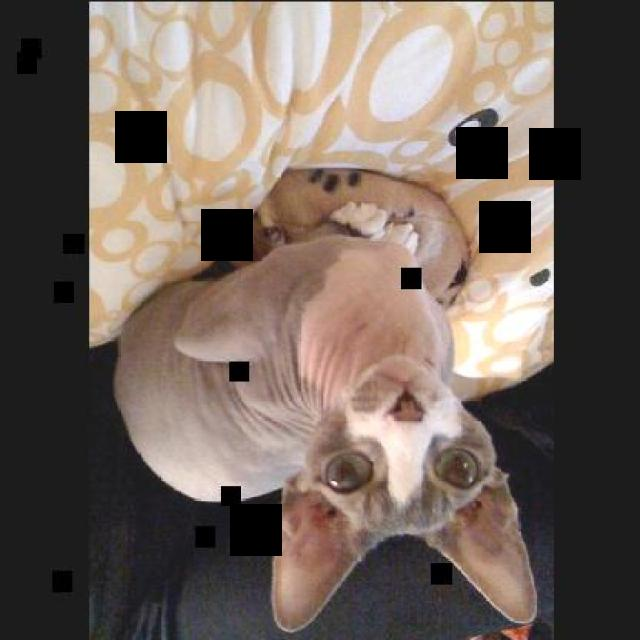unauthorized: (109, 169, 540, 634)
